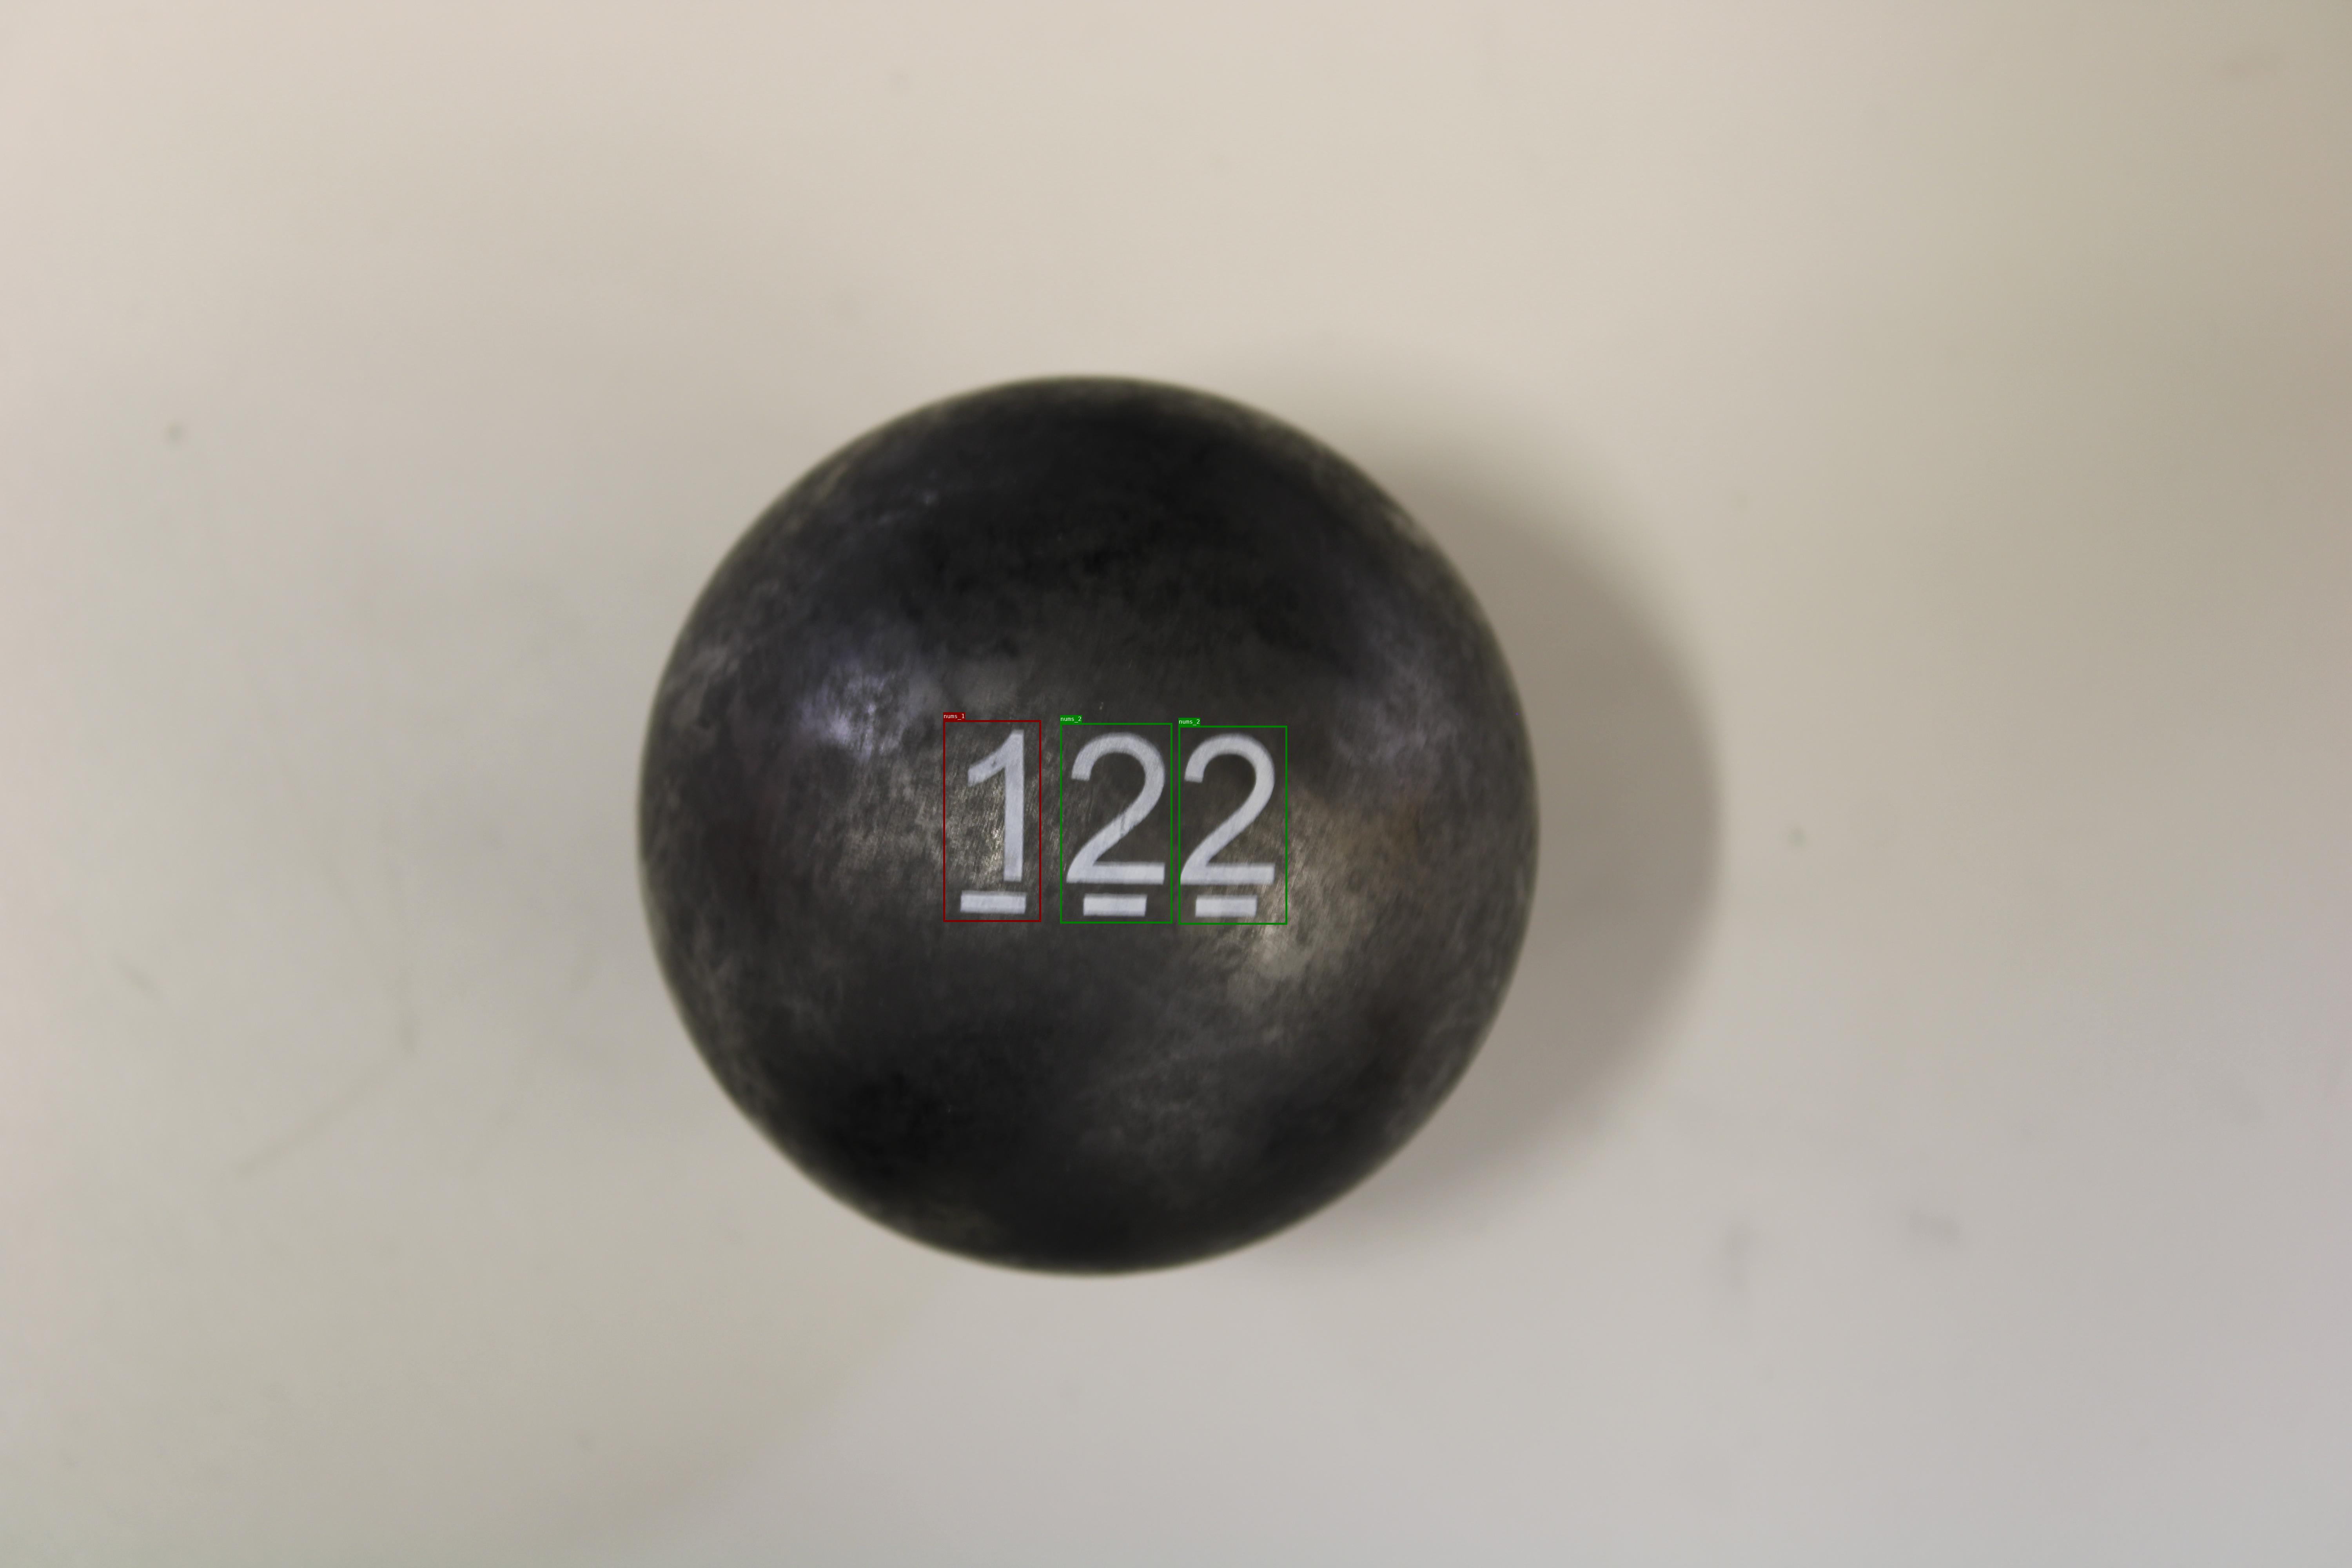nums_1: (943, 719, 1041, 922)
nums_2: (1061, 723, 1172, 924), (1178, 726, 1286, 924)
